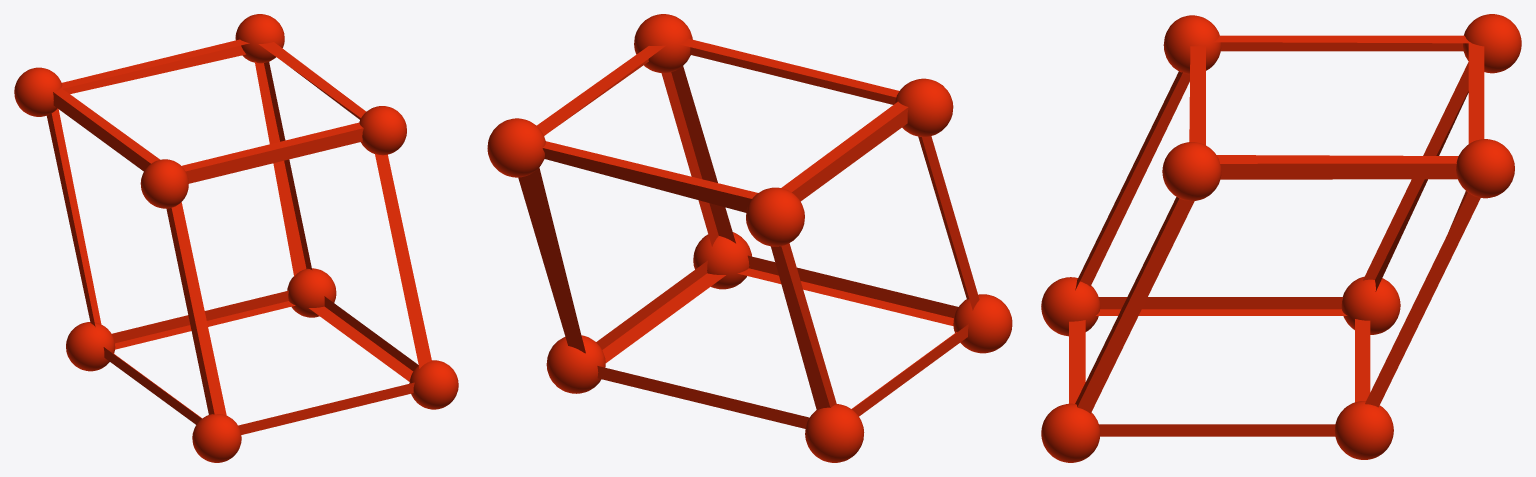
The model's file is Orthorhombique.fbx.
3 renders of one model, left to right at view 1: azimuth 30°, elevation 25°; view 2: azimuth 150°, elevation 25°; view 3: azimuth 270°, elevation 25°, orthographic. The views are drawn at different scales.
Visible parts, largest first — view 1: Sphere.002; view 2: Sphere.002; view 3: Sphere.002.
Part boxes in pixels (bbox=[...]): Sphere.002: bbox=[14, 14, 458, 462]; Sphere.002: bbox=[487, 14, 1012, 462]; Sphere.002: bbox=[1041, 14, 1521, 462].
Size of the model in its own units: 241 by 233 by 319.
